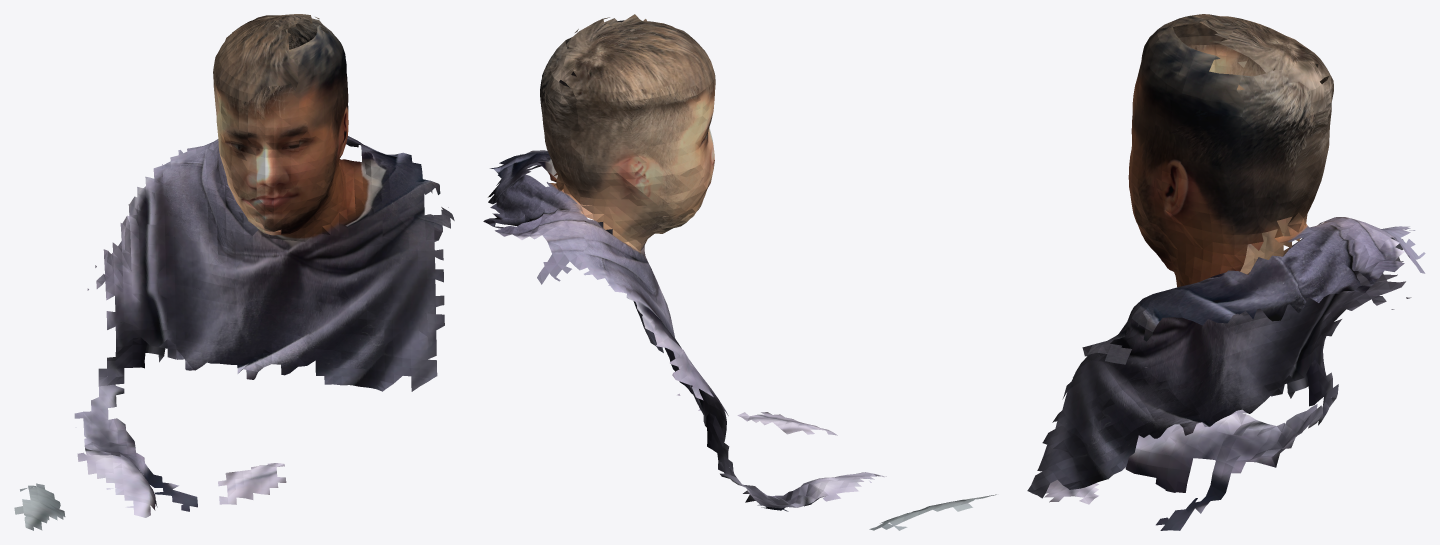
File: Untitled_Scan_11_41_07 1.fbx
3 views of the same model, side by side, from view 1: azimuth 30°, elevation 25°; view 2: azimuth 150°, elevation 25°; view 3: azimuth 270°, elevation 25° (orthographic). The views are drawn at different scales.
Parts seen in each view (by area): view 1: Object; view 2: Object; view 3: Object.
Boxes of the visible parts, x1,y1,x2,y2 form: Object: [14, 14, 454, 530]; Object: [483, 14, 996, 530]; Object: [1027, 14, 1425, 530].
Bounding box in the file's own units: 63.87 × 61.74 × 38.31.
Materials: 1 (1 with a texture image).
